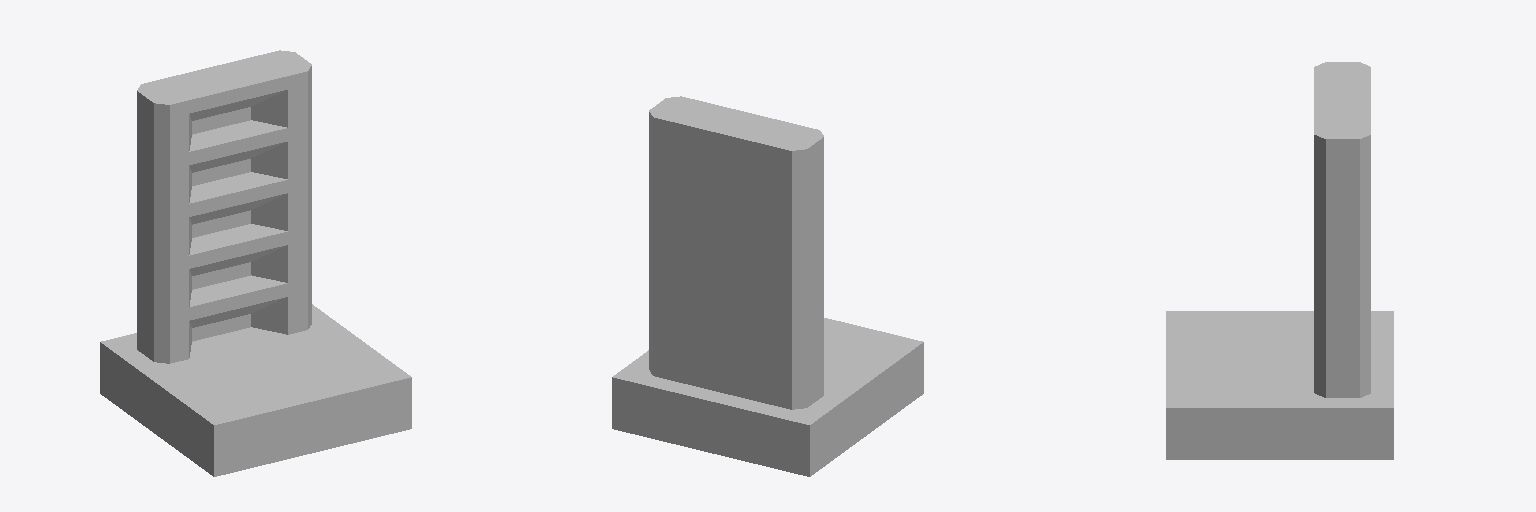
File: STAIRS_UP.obj
3 renders of one model, left to right at view 1: azimuth 30°, elevation 25°; view 2: azimuth 150°, elevation 25°; view 3: azimuth 270°, elevation 25°, orthographic.
Parts seen in each view (by area): view 1: STAIR_UP; view 2: STAIR_UP; view 3: STAIR_UP.
Part boxes in pixels (x1,y1,x2,y2): STAIR_UP: (100, 50, 411, 476); STAIR_UP: (612, 96, 923, 476); STAIR_UP: (1166, 62, 1393, 459).
Size of the model in its own units: 2 by 3 by 2.